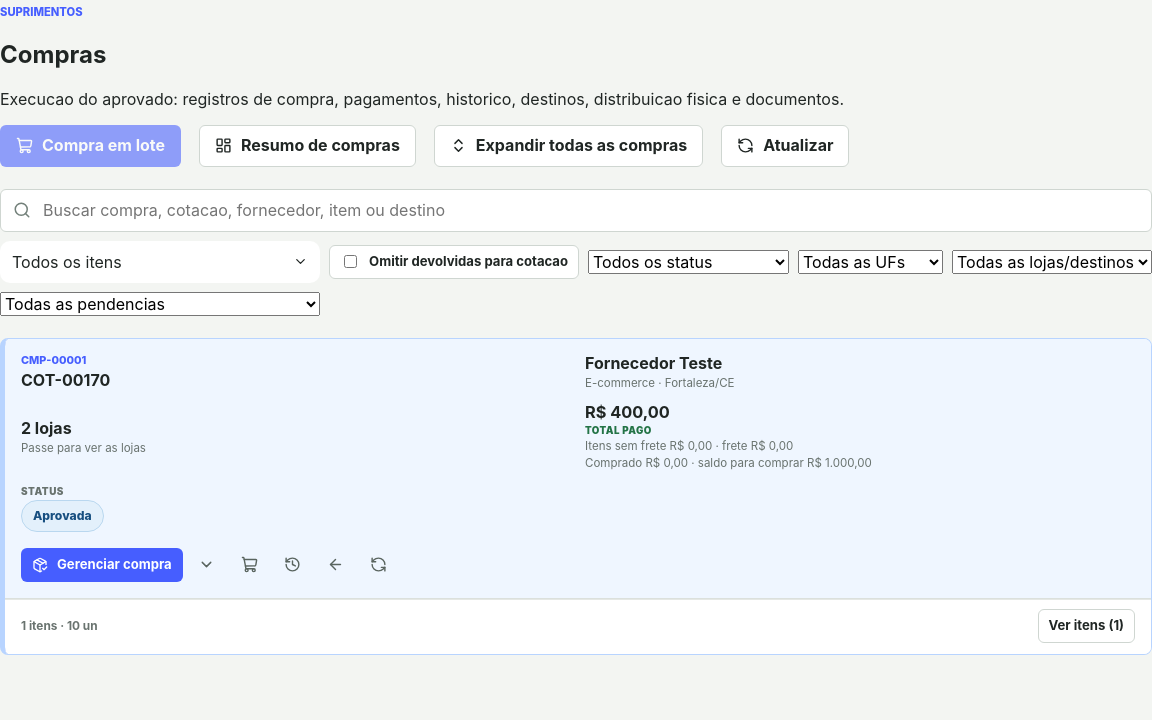
Test: SupplyPurchasesPage V2 › registra item sem destino sem inventar purchase_destination_id
Check: the text "CMP-00001" is shown, box [21, 353, 86, 367]
Click the button named "Detalhar CMP-00001" at (207, 564), box [188, 546, 226, 584]
(page scrolled)
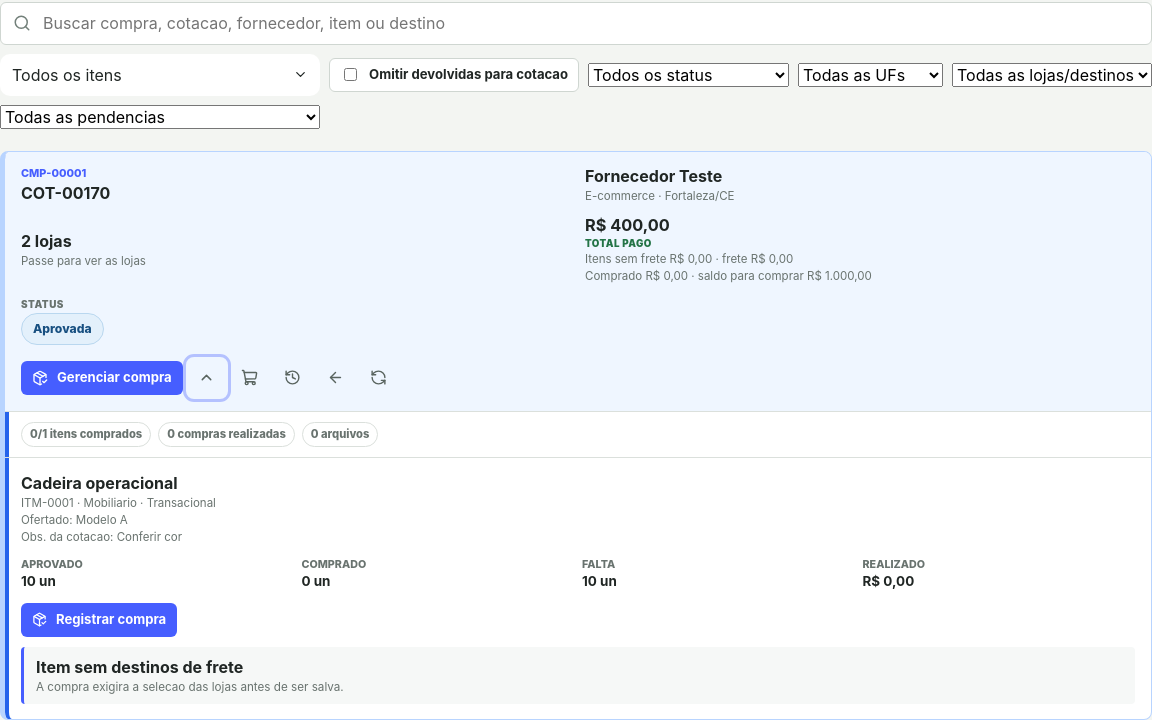
Click the button "Registrar compra" at (99, 620), box [21, 602, 177, 636]
(page scrolled)
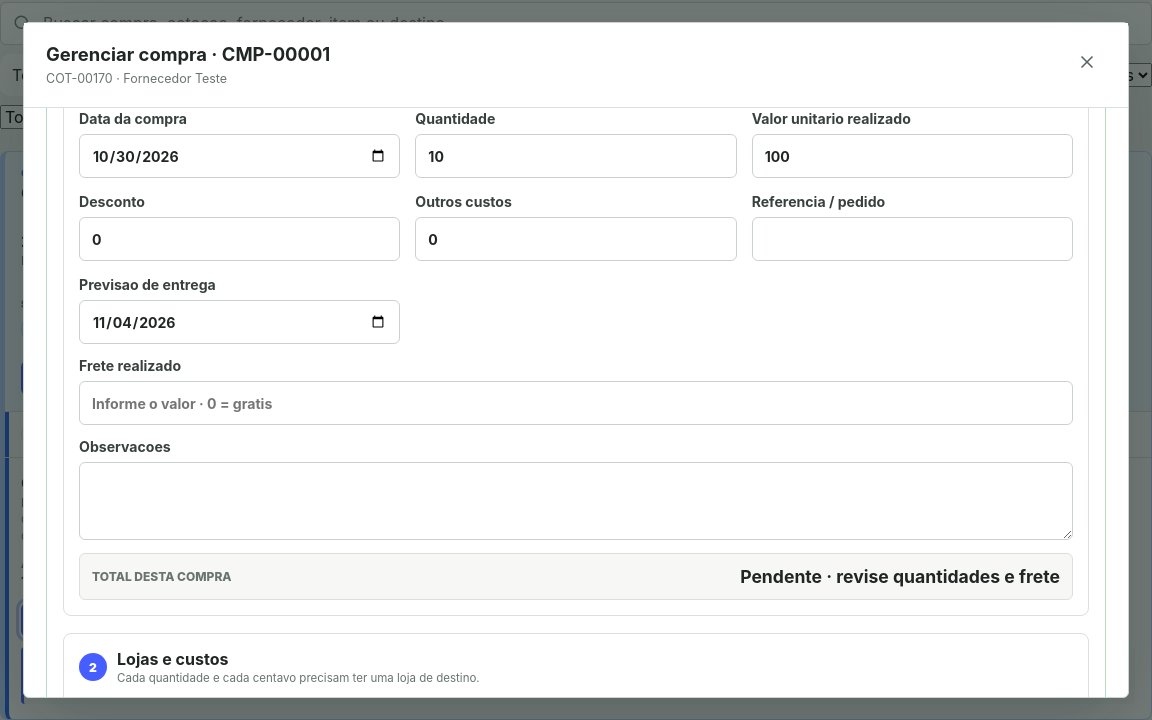
Type "0" into the field labelled "Frete realizado" at (576, 403), box [79, 381, 1073, 425]
(page scrolled)
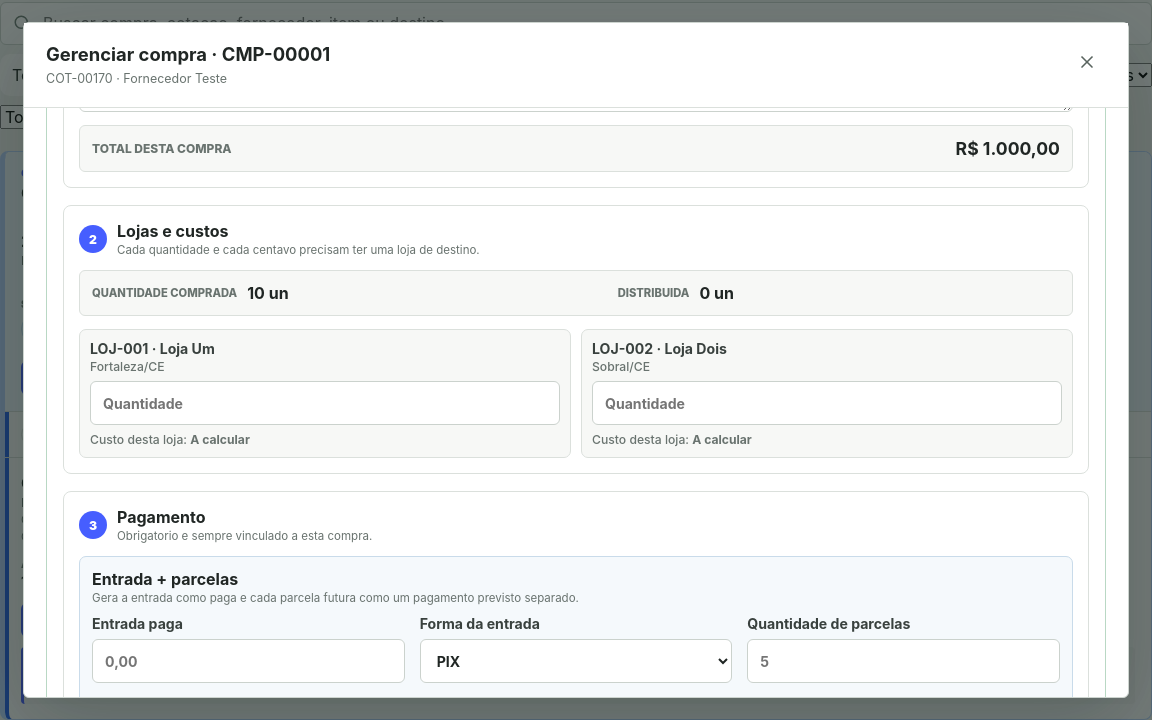
Type "5" into the field named "Quantidade da loja LOJ-001" at (325, 403), box [90, 381, 560, 425]
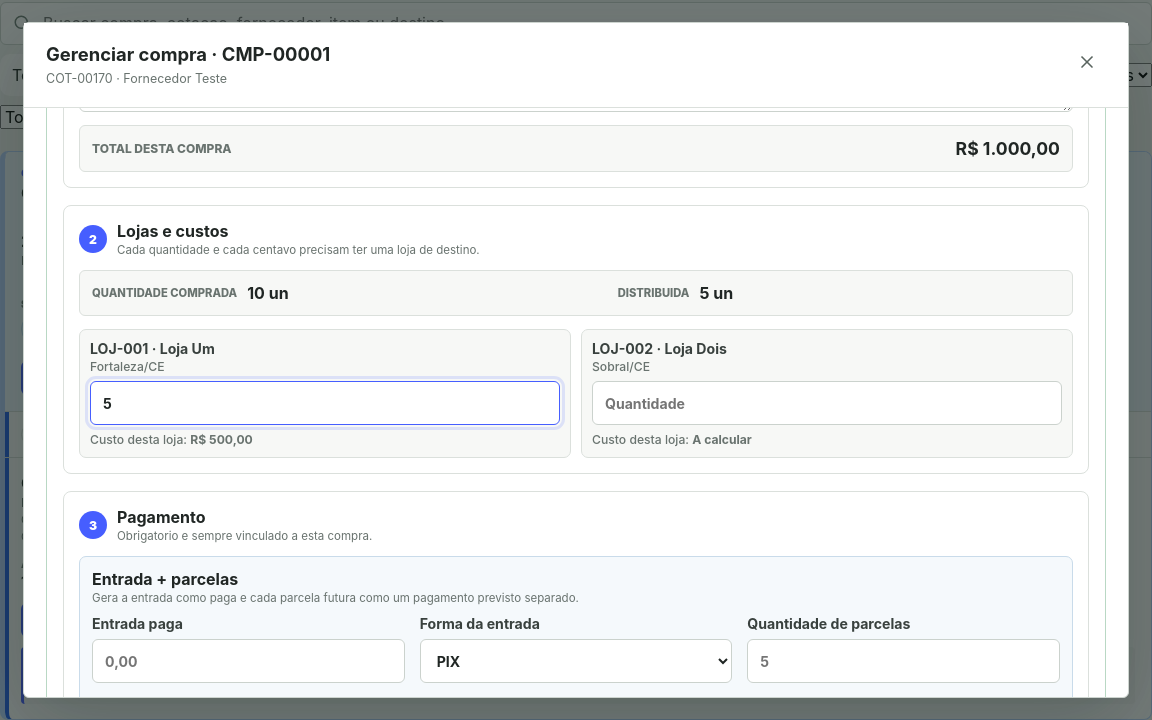
Type "5" into the field named "Quantidade da loja LOJ-002" at (827, 403), box [592, 381, 1062, 425]
(page scrolled)
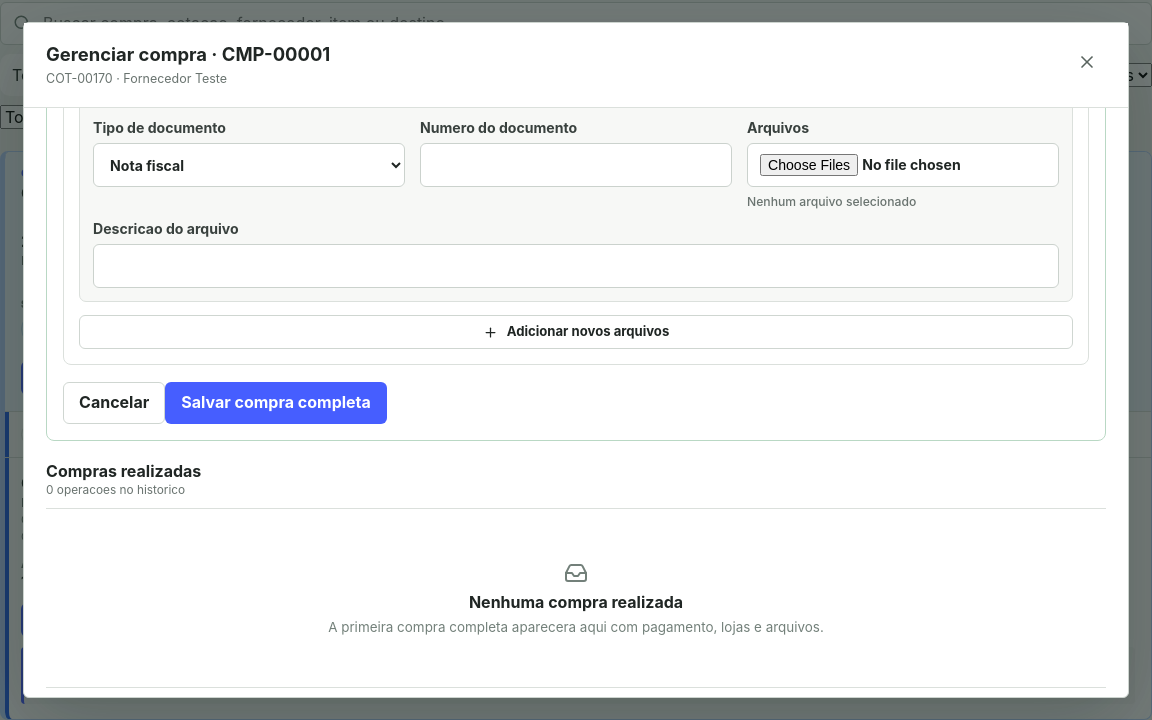
Click the button "Salvar compra completa" at (276, 403), box [165, 382, 387, 424]
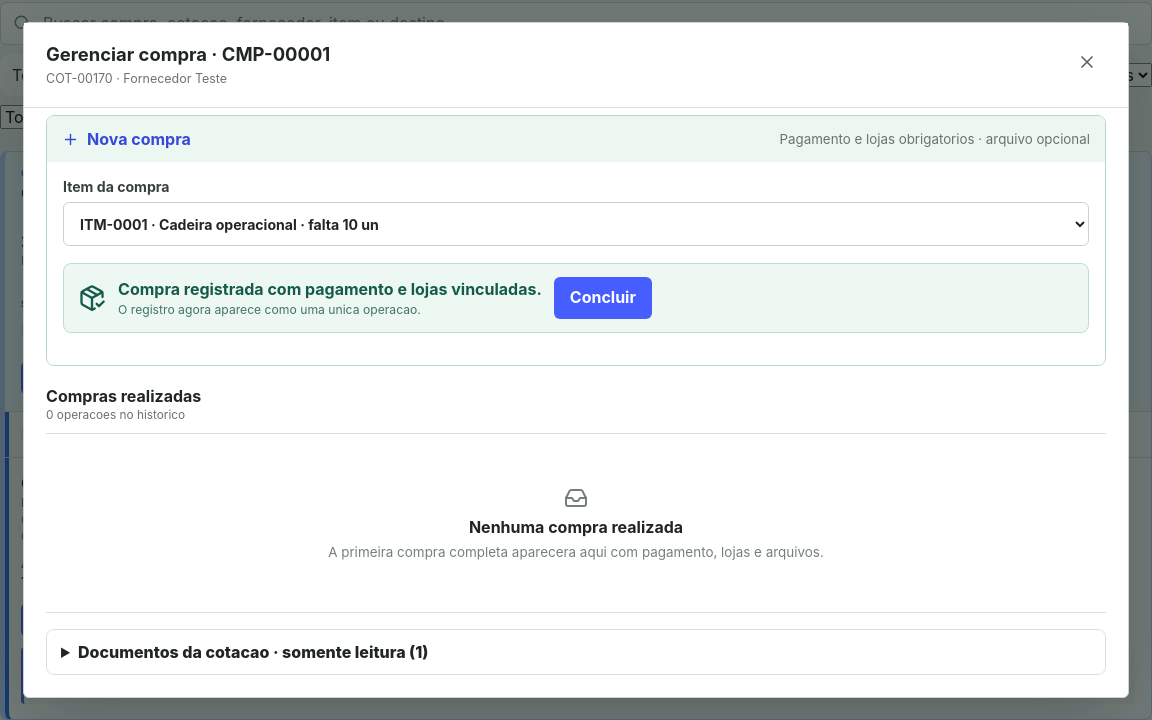
Check: the text "Compra registrada com pagamento e lojas vinculadas." is shown, box [118, 279, 542, 299]
